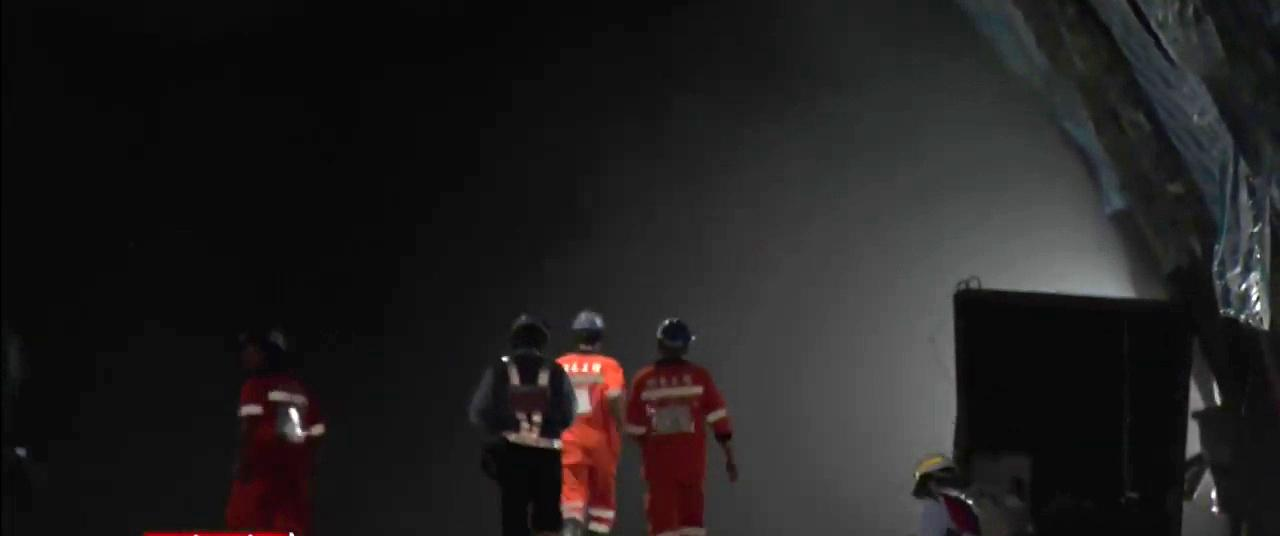helmet: (909, 451, 959, 497), (654, 316, 696, 362), (507, 312, 550, 355), (570, 309, 606, 351)
